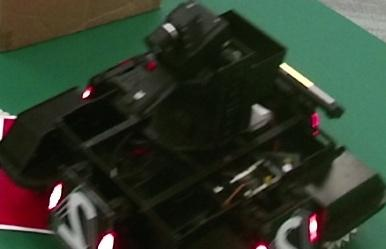armor_2: (50, 182, 114, 249)
